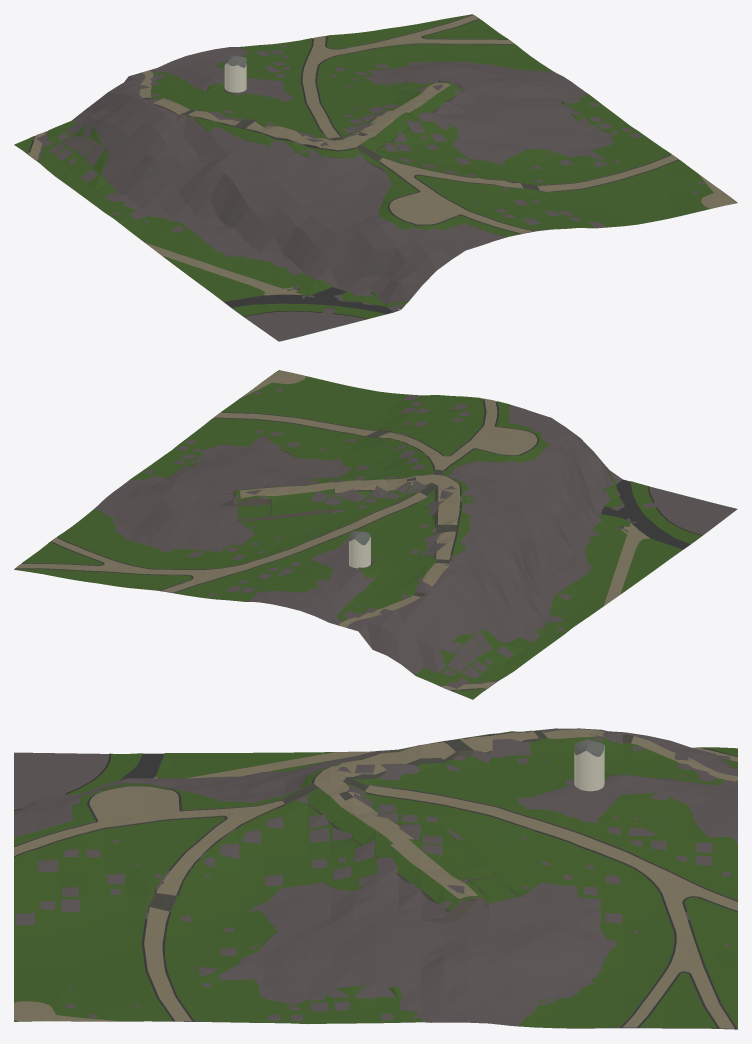
3 views of the same model, one above another, from view 1: azimuth 30°, elevation 25°; view 2: azimuth 150°, elevation 25°; view 3: azimuth 270°, elevation 25° (orthographic). The views are drawn at different scales.
Visible parts, largest first — view 1: c_p01_p12; view 2: c_p01_p12; view 3: c_p01_p12.
Part boxes in pixels (x1,y1,x2,y2): c_p01_p12: (14,14,737,341); c_p01_p12: (14,370,737,699); c_p01_p12: (14,728,737,1029).
Size of the model in its own units: 128 by 24.26 by 128.
